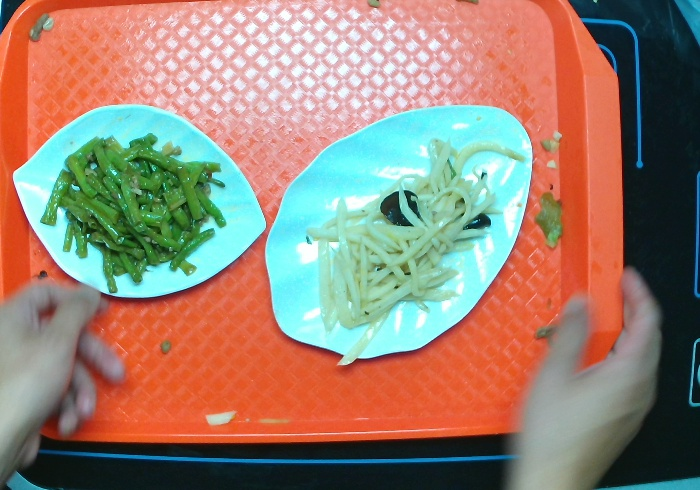RJxy-Bai_Ye_Pan: (255, 100, 542, 359)
RJxy-Da_Du_Pan: (10, 96, 269, 311)
